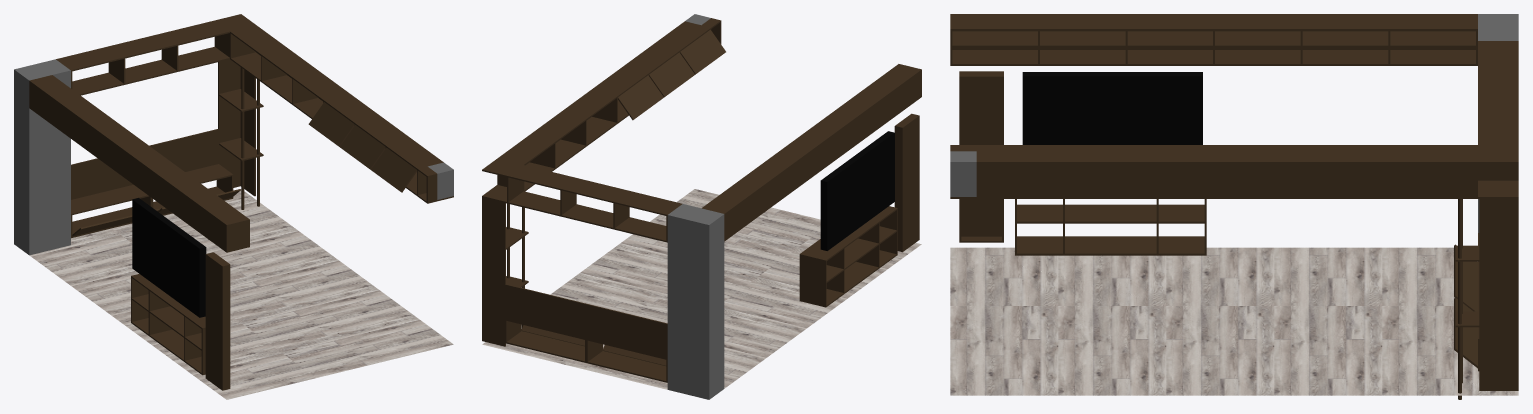
Rendered from LivingRoom.fbx.
3 views of the same model, side by side, from view 1: azimuth 30°, elevation 25°; view 2: azimuth 150°, elevation 25°; view 3: azimuth 270°, elevation 25° (orthographic). The views are drawn at different scales.
Parts seen in each view (by area): view 1: Plane.001, Cube.009, Cube.037, Cube.002, Cube.007, Cube.008, Cube.046, Cube.022, Cube.023, Cube.027, Cube.042, Cube.043 (+22 smaller); view 2: Plane.001, Cube.009, Cube.046, Cube.037, Cube.002, Cube.007, Cube.008, Cube.027, Cube.022, Cube.023, Cube.049, Cube.042 (+17 smaller); view 3: Plane.001, Cube, Cube.037, Cube.002, Cube.008, Cube.045, Cube.006, Cube.025, Cube.022, Cube.042, Cube.030, Cube.035 (+10 smaller).
Part boxes in pixels (x1=…): Plane.001: x1=29, y1=189, x2=453, y2=399; Cube.009: x1=14, y1=59, x2=70, y2=255; Cube.037: x1=132, y1=198, x2=206, y2=317; Cube.002: x1=230, y1=25, x2=443, y2=169; Cube.007: x1=29, y1=82, x2=227, y2=251; Cube.008: x1=29, y1=75, x2=249, y2=226; Cube.046: x1=71, y1=129, x2=218, y2=199; Cube.022: x1=56, y1=14, x2=255, y2=71; Cube.023: x1=72, y1=46, x2=229, y2=95; Cube.027: x1=218, y1=59, x2=240, y2=187; Cube.042: x1=206, y1=254, x2=222, y2=389; Cube.043: x1=71, y1=164, x2=233, y2=215; Plane.001: x1=482, y1=189, x2=921, y2=389; Cube.009: x1=667, y1=204, x2=724, y2=399; Cube.046: x1=505, y1=284, x2=667, y2=358; Cube.037: x1=820, y1=131, x2=894, y2=250; Cube.002: x1=497, y1=21, x2=711, y2=165; Cube.007: x1=724, y1=71, x2=921, y2=239; Cube.008: x1=702, y1=64, x2=921, y2=214; Cube.027: x1=483, y1=199, x2=505, y2=346; Cube.022: x1=482, y1=158, x2=682, y2=216; Cube.023: x1=482, y1=185, x2=667, y2=242; Cube.049: x1=505, y1=331, x2=667, y2=382; Cube.042: x1=902, y1=116, x2=918, y2=249; Plane.001: x1=950, y1=247, x2=1518, y2=395; Cube: x1=976, y1=164, x2=1477, y2=196; Cube.037: x1=1022, y1=72, x2=1202, y2=144; Cube.002: x1=976, y1=145, x2=1477, y2=163; Cube.008: x1=950, y1=14, x2=1477, y2=30; Cube.045: x1=950, y1=31, x2=1477, y2=47; Cube.006: x1=950, y1=50, x2=1477, y2=65; Cube.025: x1=1479, y1=201, x2=1518, y2=390; Cube.022: x1=1478, y1=41, x2=1518, y2=163; Cube.042: x1=961, y1=71, x2=1001, y2=236; Cube.030: x1=1015, y1=236, x2=1206, y2=255; Cube.035: x1=1017, y1=204, x2=1204, y2=223.
Bounding box in the file's own units: 345 × 262 × 558.
4 materials, 1 textured.
